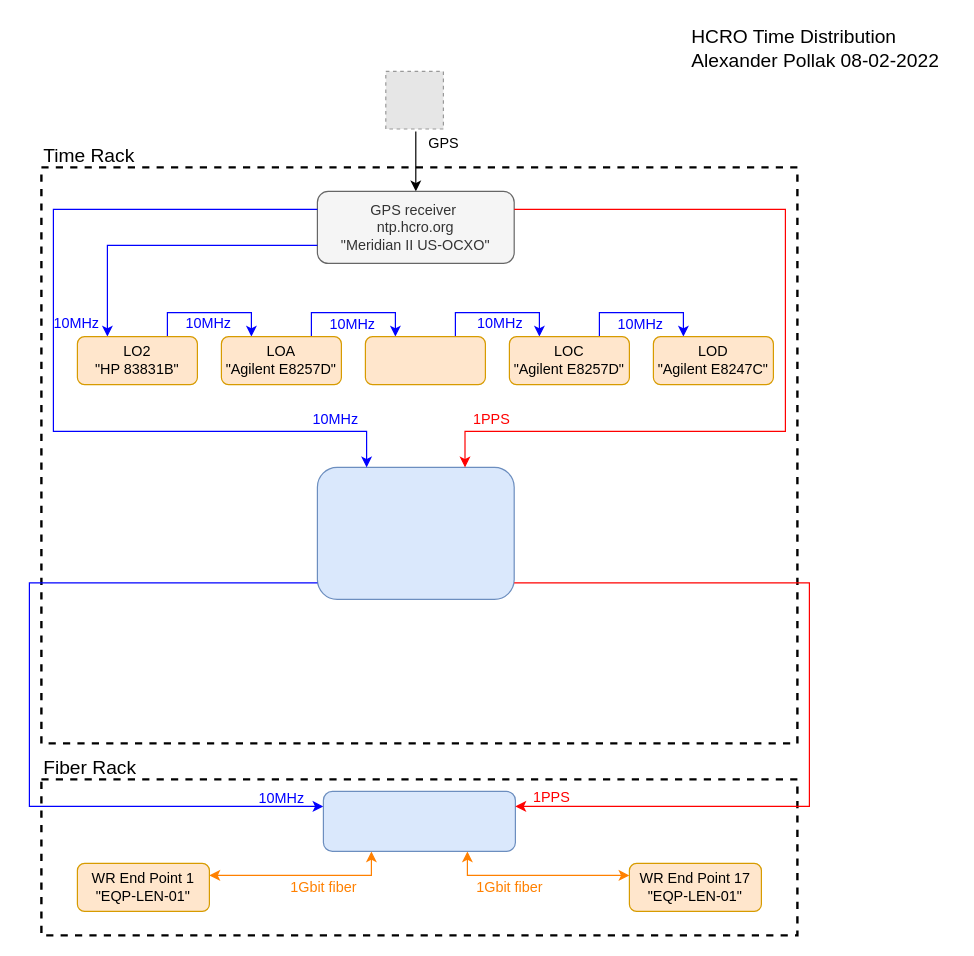
The diagram is 974 pixels wide and 956 high, and some of its shapes have lost their labels. Grey dashed boxes stand in for pictures. Here are the shapes that lost their labels. From the top down, the centre of each, then its label:
point (424, 360): LOB "Agilent E8257D"
point (415, 532): SPR-Distribution 1PPS &10MHz "SRS FS735/13"
point (418, 820): White Rabbit Switch Low Jitter "EQP-WRS-LJ-01"
